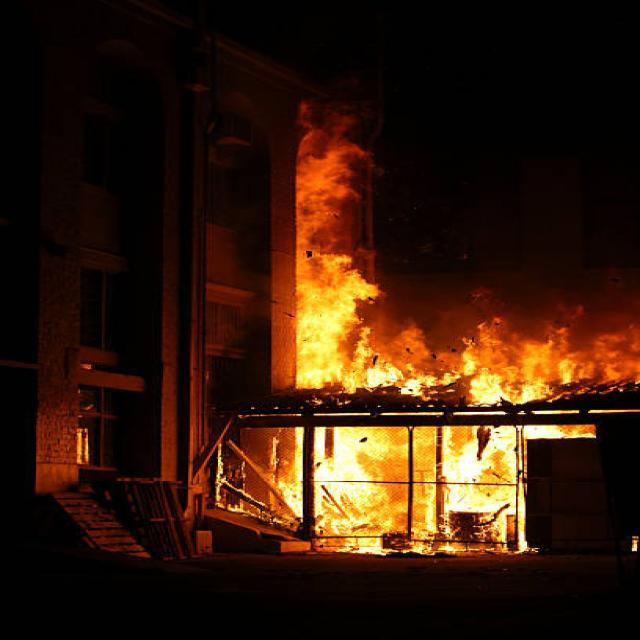Fire: (294, 427, 579, 554), (364, 300, 640, 401), (291, 103, 386, 390)
